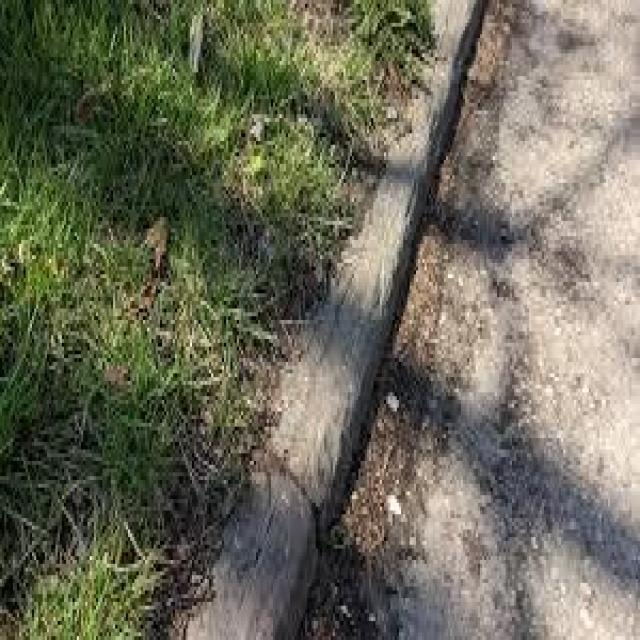curb: (207, 1, 479, 640)
